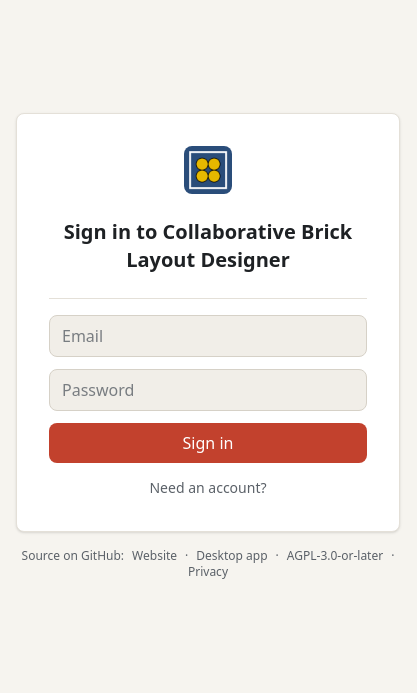
it: sign-up asks for a name › refuses an email address as the name
Click the button "Need an account?".
click(208, 488)  # box [49,478,367,498]
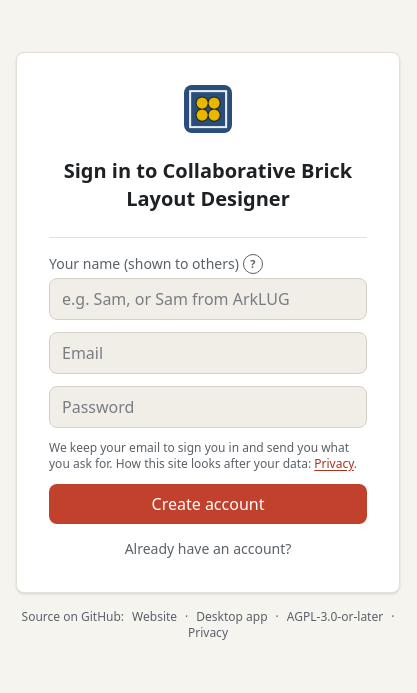
Type "sam@example.com" into the field labelled "Your name (shown to others)".
click(208, 298); type("sam@example.com")  # box [49,278,367,320]
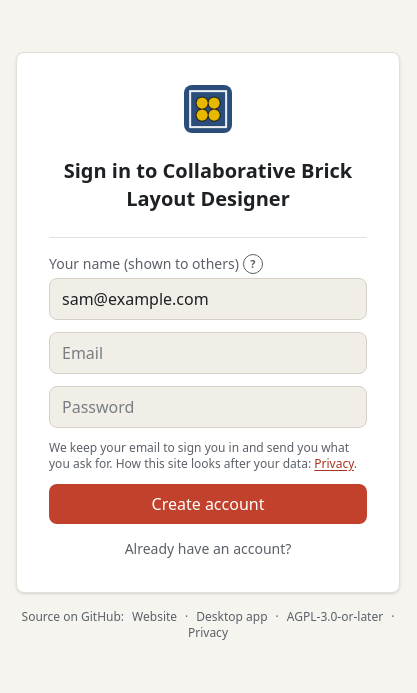
Type "sam@example.com" into the field labelled "Email".
click(208, 352); type("sam@example.com")  # box [49,332,367,374]
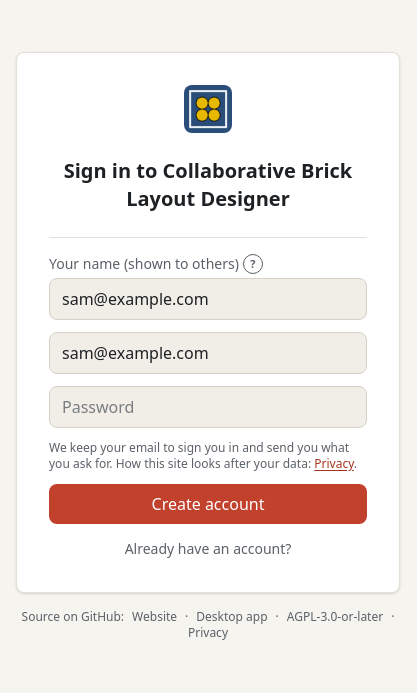
Type "correct horse battery" into the password field labelled "Password".
click(208, 406); type("correct horse battery")  # box [49,386,367,428]
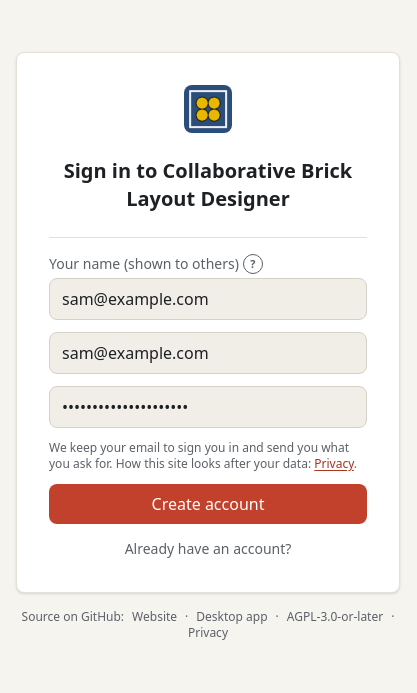
Click the button "Create account".
click(208, 504)  # box [49,484,367,524]
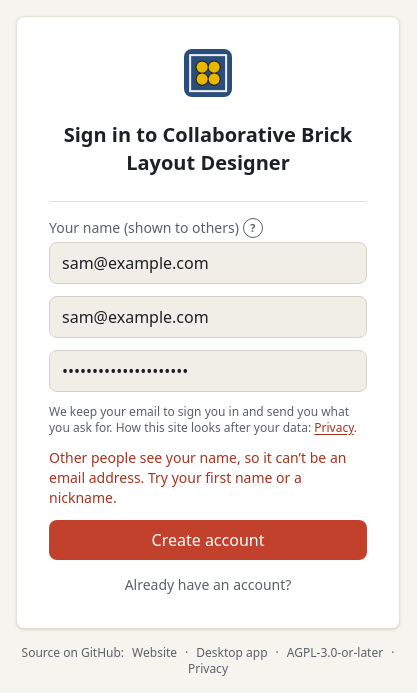
Check: the text "can’t be an email address" is shown, box [49,448,346,506]
